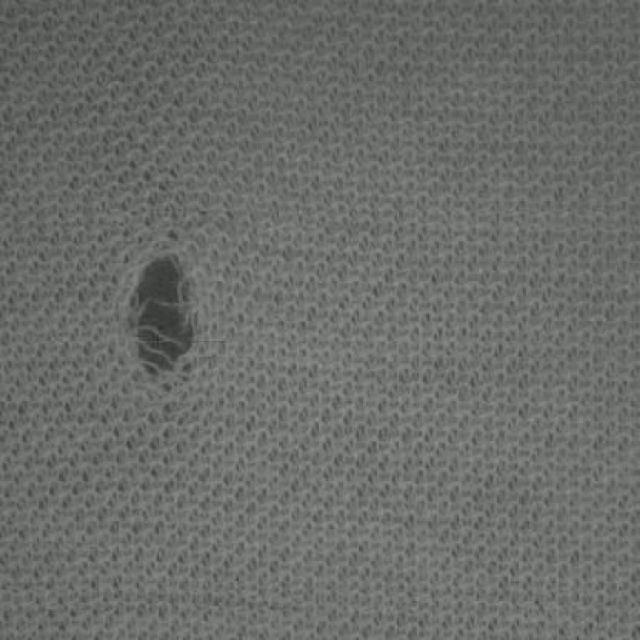Hole: (128, 254, 192, 373)
